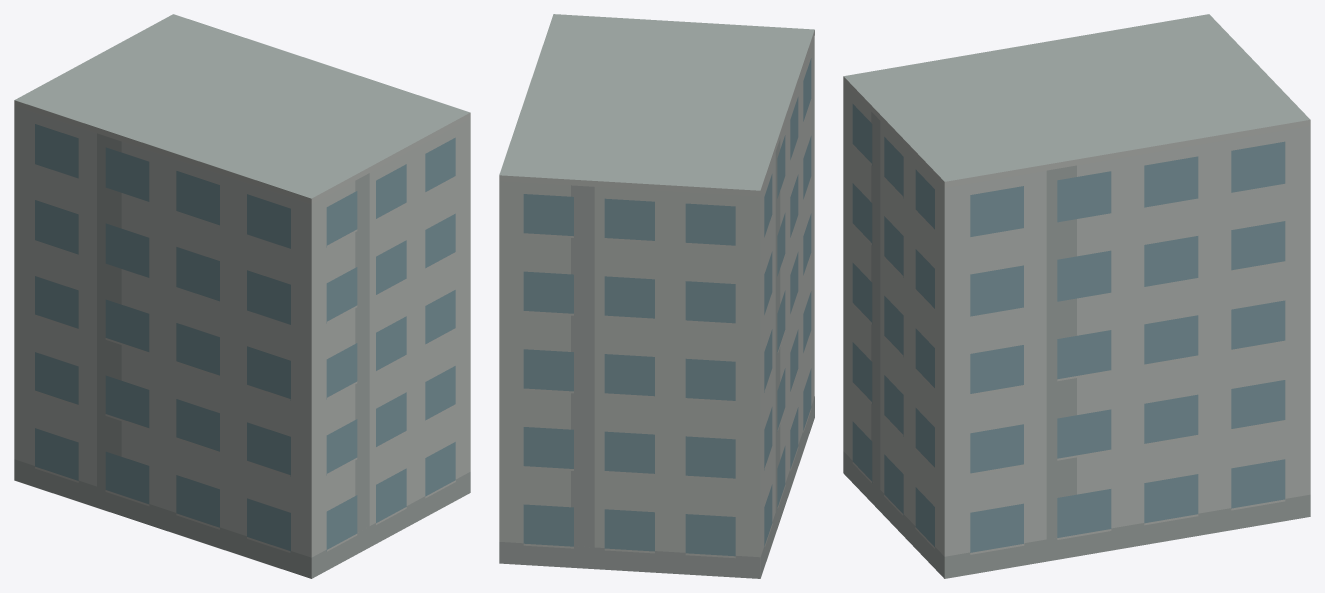
The model's file is survey-upis-32859507.glb.
3 views of the same model, side by side, from view 1: azimuth 30°, elevation 25°; view 2: azimuth 150°, elevation 25°; view 3: azimuth 270°, elevation 25° (orthographic). The views are drawn at different scales.
Parts seen in each view (by area): view 1: survey-upis-32859507.tmp; view 2: survey-upis-32859507.tmp; view 3: survey-upis-32859507.tmp.
Boxes of the visible parts, x1,y1,x2,y2 form: survey-upis-32859507.tmp: (14,14,470,578); survey-upis-32859507.tmp: (499,14,814,578); survey-upis-32859507.tmp: (843,14,1310,578).
Bounding box in the file's own units: 14.56 × 16.05 × 17.12.
